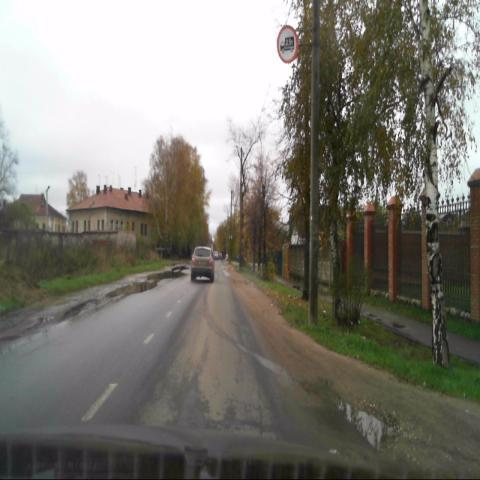3_4: (276, 26, 298, 65)
